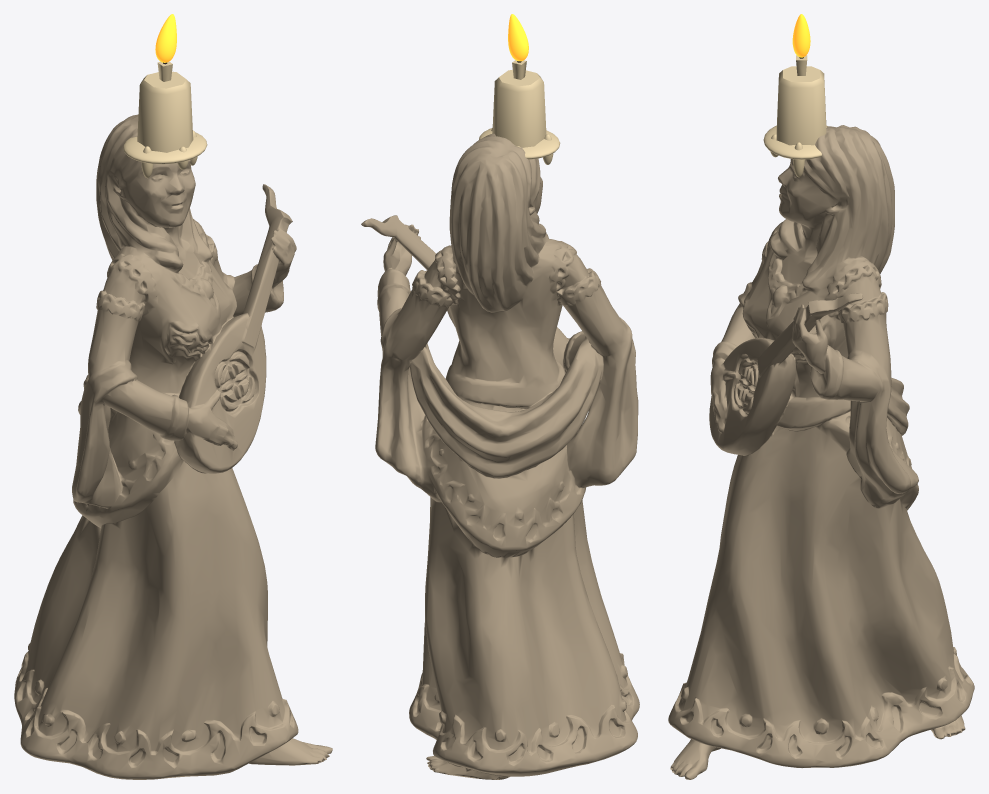
File: candle-halfling.glb
3 views of the same model, side by side, from view 1: azimuth 30°, elevation 25°; view 2: azimuth 150°, elevation 25°; view 3: azimuth 270°, elevation 25° (orthographic). The views are drawn at different scales.
Parts seen in each view (by area): view 1: halfling-bard-teirale, candle, Madame Bougie — halfeline à la bougie; view 2: halfling-bard-teirale, candle, Madame Bougie — halfeline à la bougie; view 3: halfling-bard-teirale, candle, Madame Bougie — halfeline à la bougie.
Part boxes in pixels (left/top/right/bottom): halfling-bard-teirale: left=14, top=114, right=332, bottom=779; candle: left=137, top=61, right=193, bottom=152; Madame Bougie — halfeline à la bougie: left=123, top=14, right=207, bottom=178; halfling-bard-teirale: left=361, top=133, right=639, bottom=779; candle: left=492, top=60, right=546, bottom=147; Madame Bougie — halfeline à la bougie: left=479, top=14, right=560, bottom=164; halfling-bard-teirale: left=668, top=125, right=974, bottom=779; candle: left=776, top=55, right=826, bottom=145; Madame Bougie — halfeline à la bougie: left=763, top=14, right=827, bottom=177.
Size of the model in its own units: 0.9076 by 2.38 by 0.9239.
